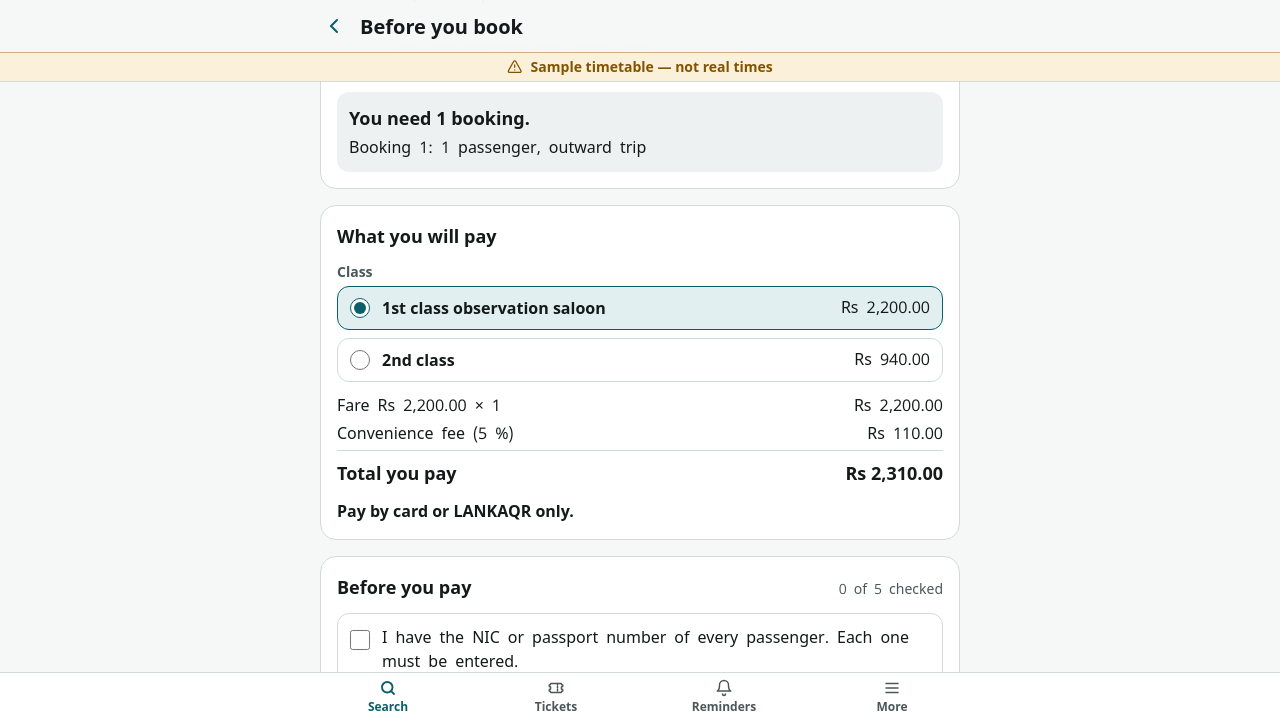
Test: true total › fare × seats + 5 % convenience fee, card or LANKAQR only
(page scrolled)
Click the radio button labelled "2nd class Rs 940.00" at (360, 360), box x1=350 y1=350 x2=370 y2=370
(page scrolled)
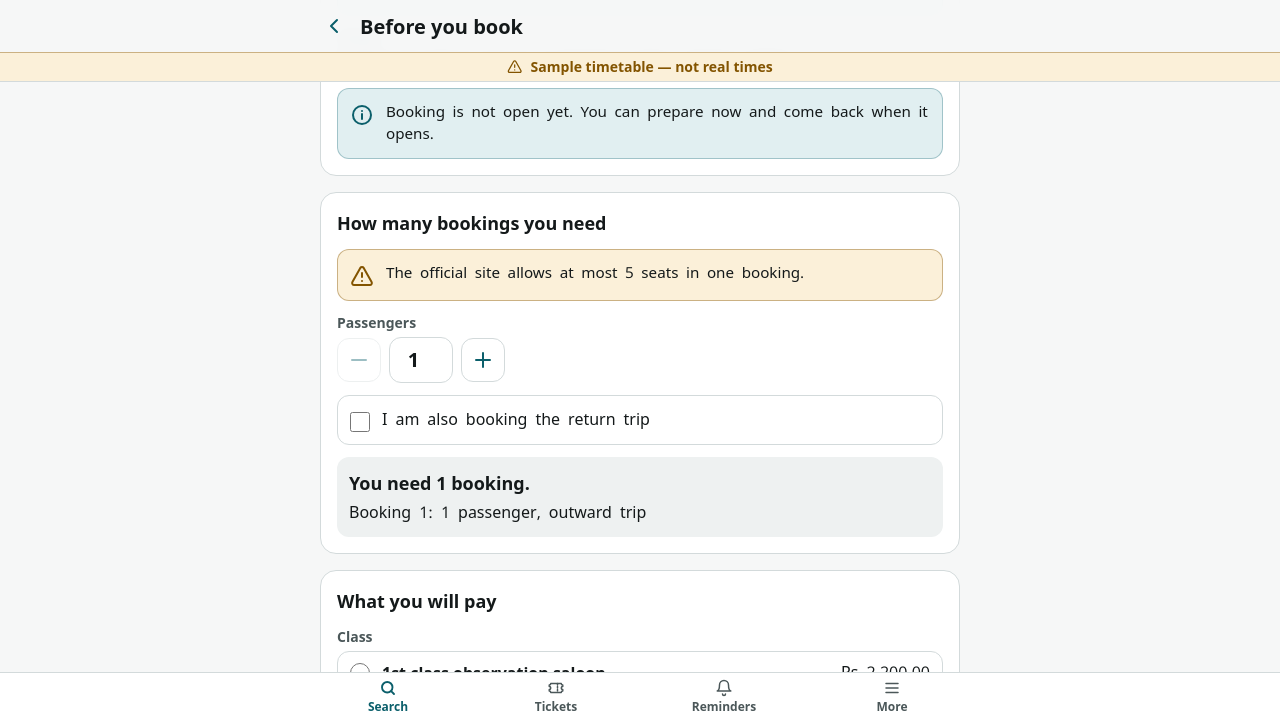
Click the button named "One passenger more" at (483, 360), box x1=461 y1=338 x2=505 y2=382
(page scrolled)
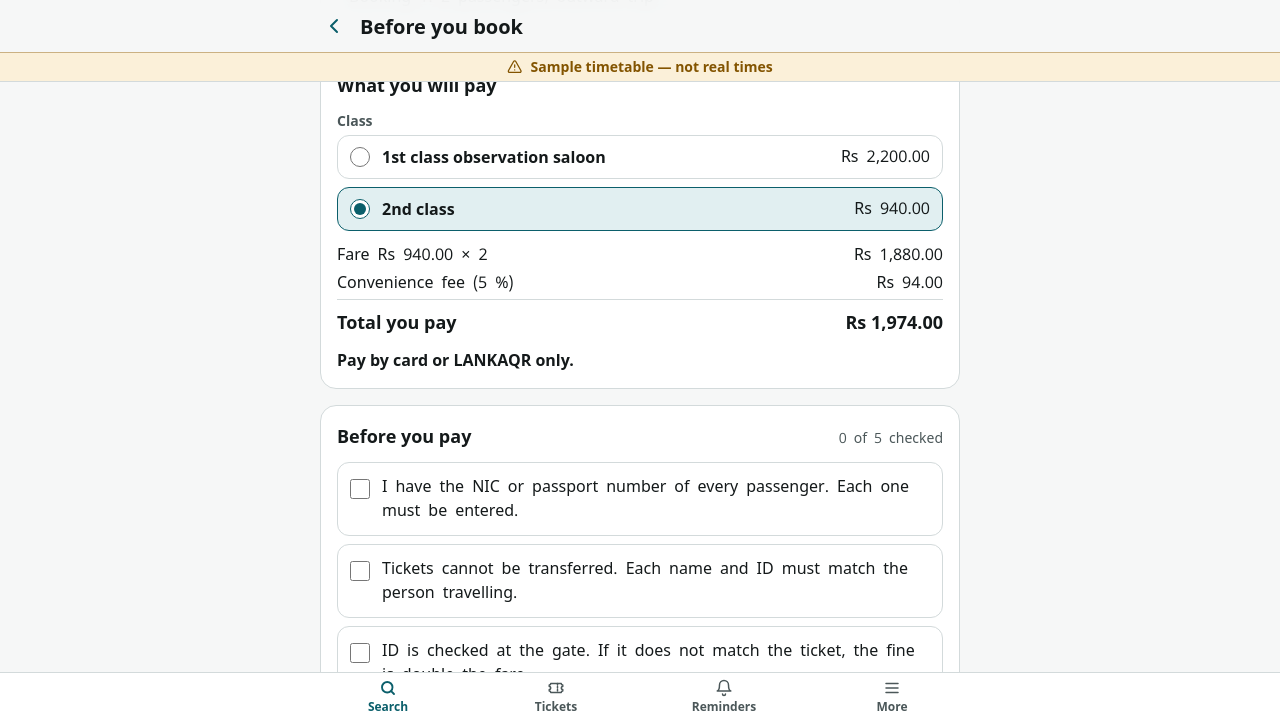
Check: the text "Convenience fee (5 %)" is shown, box x1=337 y1=271 x2=514 y2=295
Check: the text "Fare Rs 940.00 × 2" is shown, box x1=337 y1=243 x2=488 y2=267
